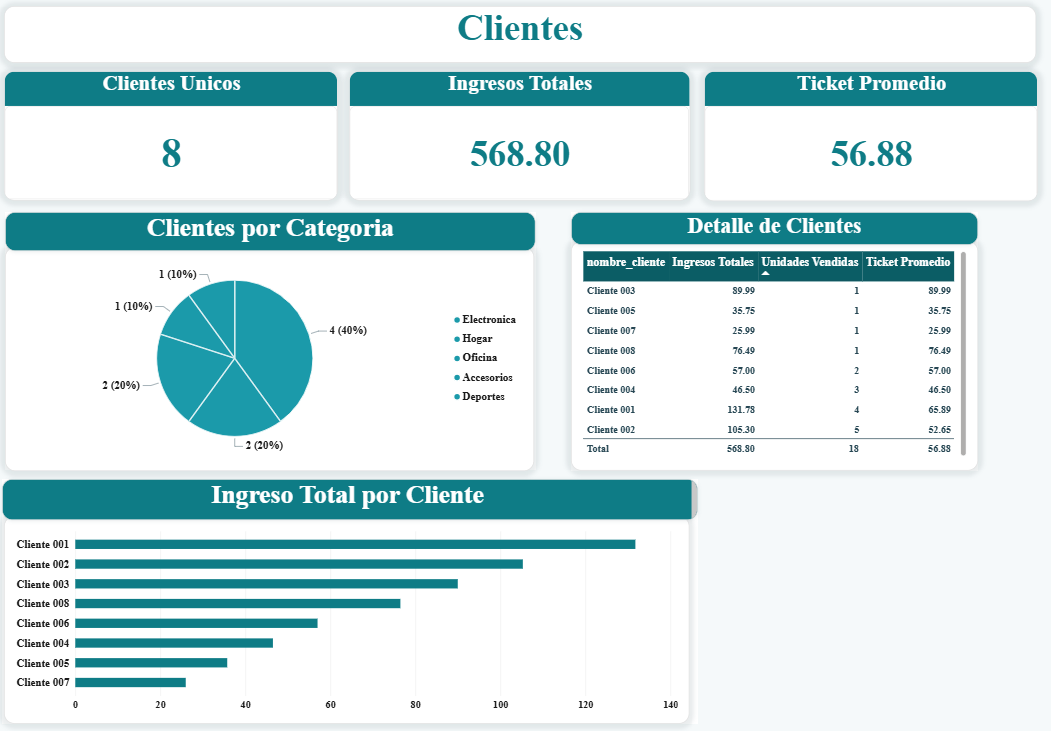

The dashboard page shown, as its layout file describes it:
{"tool":"powerbi","page":{"name":"Clientes","canvas":[1920,1080],"ordinal":1},"visuals":[{"type":"textbox","box":[10.2,14.6,1505.7,83.2],"z":0},{"type":"cardVisual","title":"Clientes Unicos ","fields":{"Data":["analisis_ventas vw_ventas_detalle.Clientes Unicos"]},"box":[10.5,109.4,487.1,188.9],"z":1000},{"type":"cardVisual","title":"Ingresos Totales","fields":{"Data":["analisis_ventas vw_ventas_detalle.Ingresos Totales"]},"box":[514.1,109.4,497.6,188.9],"z":2000},{"type":"cardVisual","title":"Ticket Promedio","fields":{"Data":["analisis_ventas vw_ventas_detalle.Ticket Promedio"]},"box":[1031.2,109.4,487.1,190.4],"z":3000},{"type":"barChart","fields":{"Category":["analisis_ventas vw_ventas_detalle.nombre_cliente"],"Y":["analisis_ventas vw_ventas_detalle.Ingresos Totales"]},"box":[10.8,759.4,1000.1,303.1],"z":4000,"group":"g1"},{"type":"pieChart","fields":{"Category":["analisis_ventas vw_ventas_detalle.categoria"],"Y":["analisis_ventas vw_ventas_detalle.Clientes Unicos"]},"box":[11.7,365.7,772.3,326.7],"z":5000,"group":"g2"},{"type":"tableEx","fields":{"Values":["analisis_ventas vw_ventas_detalle.nombre_cliente","analisis_ventas vw_ventas_detalle.Ingresos Totales","analisis_ventas vw_ventas_detalle.Unidades Vendidas","analisis_ventas vw_ventas_detalle.Ticket Promedio"]},"box":[837.4,357.7,593.8,335.3],"z":6000,"group":"g3"},{"type":"textbox","box":[7.8,705,1015.4,59.8],"z":6001,"group":"g1"},{"type":"group","id":"g1","title":"Grupo 1","box":[7.8,705,1015.4,357.4],"z":6002},{"type":"textbox","box":[11.7,315.1,774,57],"z":6003,"group":"g2"},{"type":"group","id":"g2","title":"Grupo 2","box":[11.7,315.1,774.7,376.4],"z":6004},{"type":"textbox","box":[837.6,315.1,593.8,48.1],"z":6005,"group":"g3"},{"type":"group","id":"g3","title":"Grupo 3","box":[837.4,315.1,593.8,377.9],"z":6006}]}

Visuals, with their boxes on the page's 1920x1080 design canvas (x1, y1, x2, y2). These are canvas units, not pixel positions in the 1051x731 screenshot, which may show the page scaled, cropped or inside an application window:
textbox: {"left": 10, "top": 15, "right": 1516, "bottom": 98}
"Clientes Unicos " cardVisual: {"left": 10, "top": 109, "right": 498, "bottom": 298}
"Ingresos Totales" cardVisual: {"left": 514, "top": 109, "right": 1012, "bottom": 298}
"Ticket Promedio" cardVisual: {"left": 1031, "top": 109, "right": 1518, "bottom": 300}
barChart - analisis_ventas vw_ventas_detalle.nombre_cliente x analisis_ventas vw_ventas_detalle.Ingresos Totales: {"left": 11, "top": 759, "right": 1011, "bottom": 1062}
pieChart - analisis_ventas vw_ventas_detalle.categoria x analisis_ventas vw_ventas_detalle.Clientes Unicos: {"left": 12, "top": 366, "right": 784, "bottom": 692}
tableEx - analisis_ventas vw_ventas_detalle.nombre_cliente x analisis_ventas vw_ventas_detalle.Ingresos Totales: {"left": 837, "top": 358, "right": 1431, "bottom": 693}
textbox: {"left": 8, "top": 705, "right": 1023, "bottom": 765}
"Grupo 1" group: {"left": 8, "top": 705, "right": 1023, "bottom": 1062}
textbox: {"left": 12, "top": 315, "right": 786, "bottom": 372}
"Grupo 2" group: {"left": 12, "top": 315, "right": 786, "bottom": 692}
textbox: {"left": 838, "top": 315, "right": 1431, "bottom": 363}
"Grupo 3" group: {"left": 837, "top": 315, "right": 1431, "bottom": 693}
